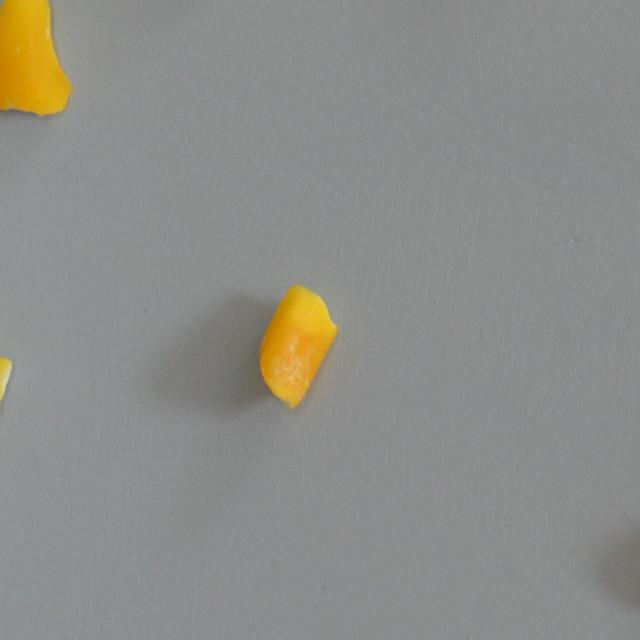estandar: (0, 0, 75, 122)
pelicula: (256, 280, 337, 412), (0, 352, 14, 432)
